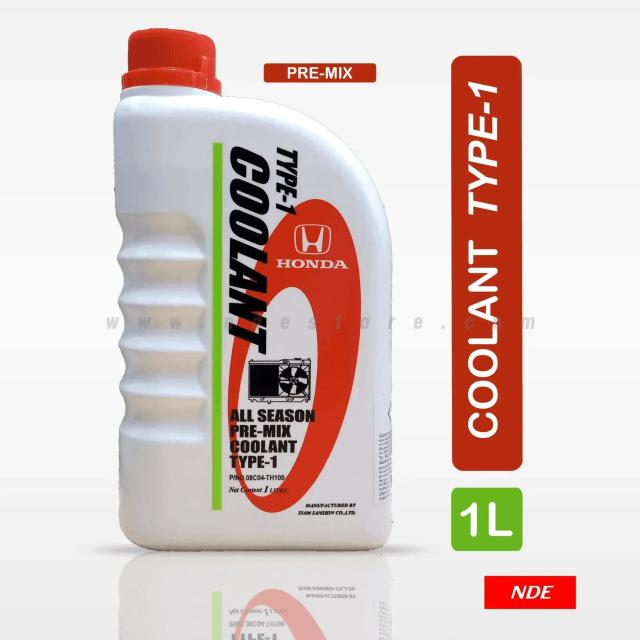coolant: (110, 29, 405, 554)
